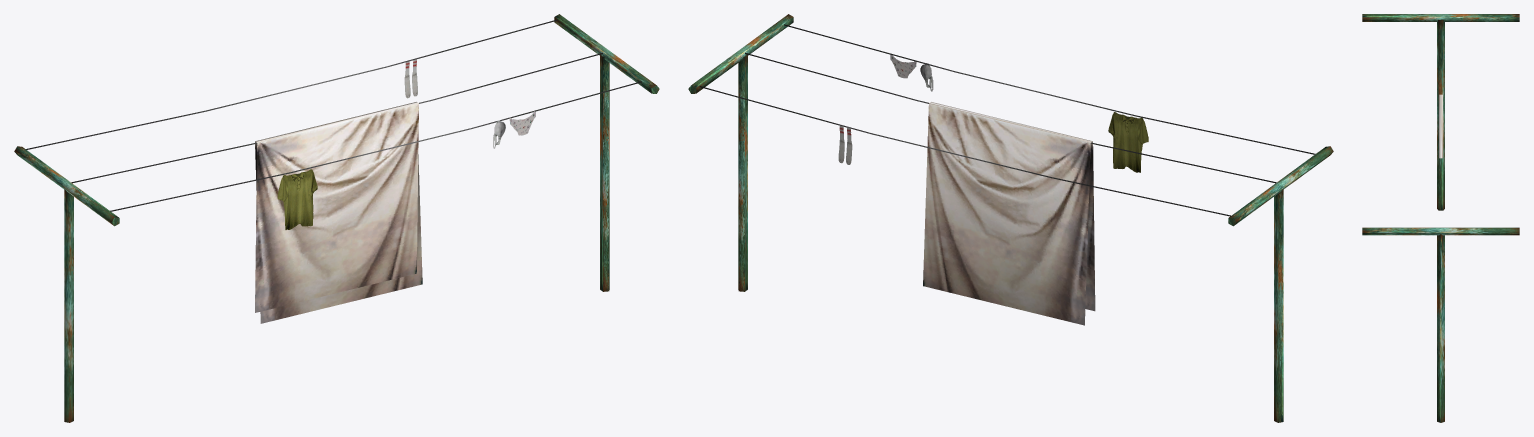
Rendered from rooftop_clothesline5m.fbx.
3 views of the same model, side by side, from view 1: azimuth 30°, elevation 25°; view 2: azimuth 150°, elevation 25°; view 3: azimuth 270°, elevation 25° (orthographic). The views are drawn at different scales.
Parts seen in each view (by area): view 1: mesh_0; view 2: mesh_0; view 3: mesh_0.
Part boxes in pixels (bbox=[...]): mesh_0: bbox=[14, 14, 659, 422]; mesh_0: bbox=[688, 14, 1333, 422]; mesh_0: bbox=[1362, 14, 1519, 422].
Size of the model in its own units: 488 by 204 by 150.
Materials: 1 (1 with a texture image).
